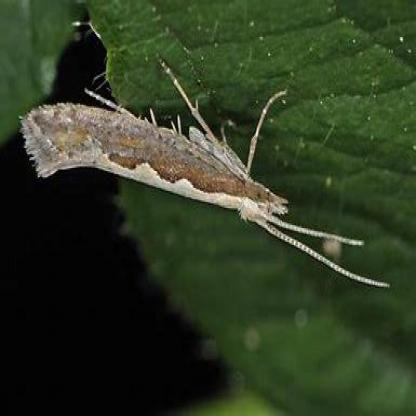plutella: (14, 64, 400, 291)
